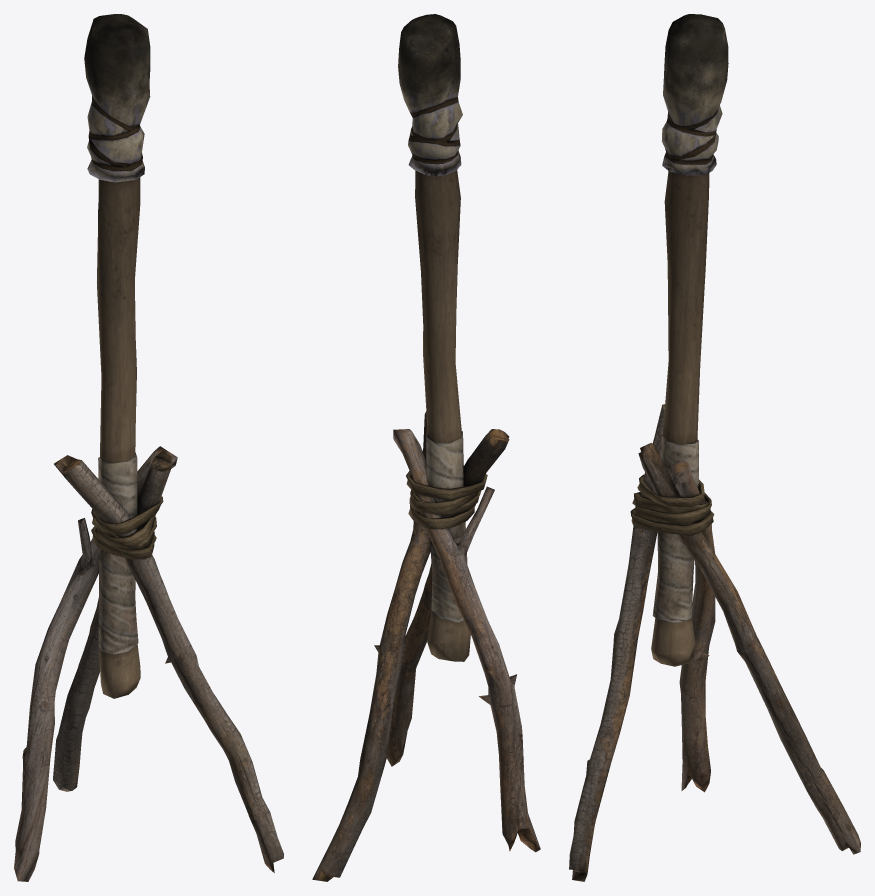
Rendered from TorchStand.fbx.
3 views of the same model, side by side, from view 1: azimuth 30°, elevation 25°; view 2: azimuth 150°, elevation 25°; view 3: azimuth 270°, elevation 25° (orthographic). The views are drawn at different scales.
Visible parts, largest first — view 1: SM_TorchStand.mo; view 2: SM_TorchStand.mo; view 3: SM_TorchStand.mo.
Part boxes in pixels (<box>): SM_TorchStand.mo: <box>14,14,283,881</box>; SM_TorchStand.mo: <box>312,14,540,881</box>; SM_TorchStand.mo: <box>569,14,860,881</box>.
Size of the model in its own units: 30.46 by 115 by 36.98.
1 material, 1 textured.
